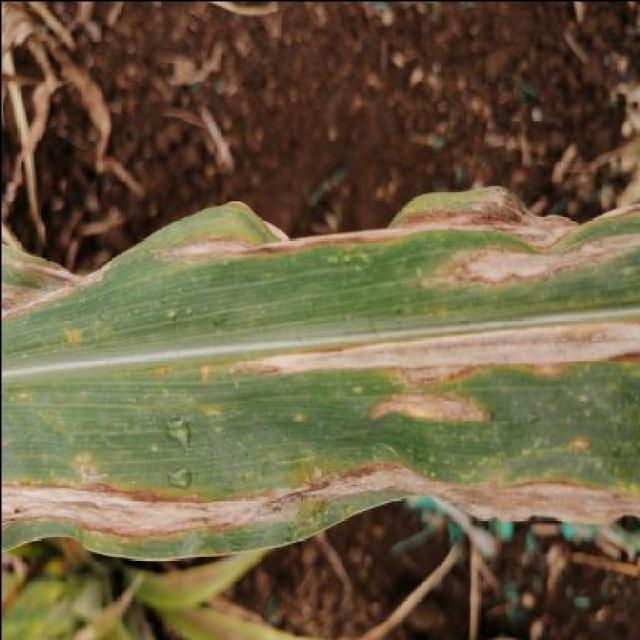Corn_Leaf_Blight: (0, 172, 640, 568)
